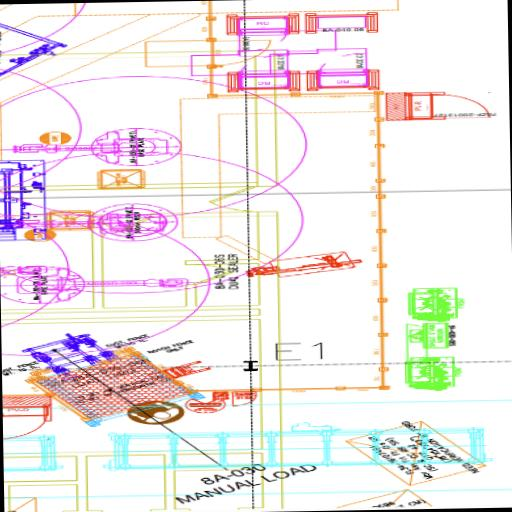robot: (0, 260, 198, 307), (2, 202, 188, 250), (9, 123, 187, 170)
